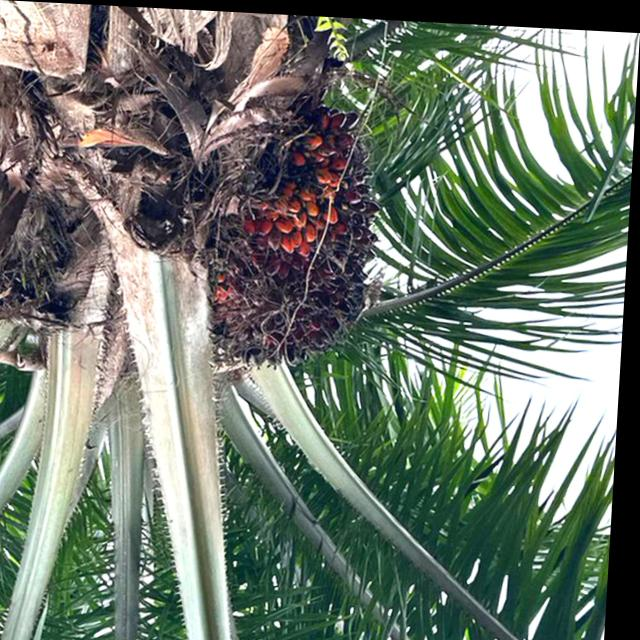ripe: (185, 126, 361, 393)
